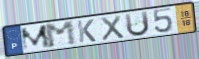5: (153, 6, 175, 35)
K: (76, 18, 98, 44)
M: (43, 19, 79, 49), (19, 24, 52, 53)
U: (123, 10, 151, 38)
X: (99, 14, 126, 42)
